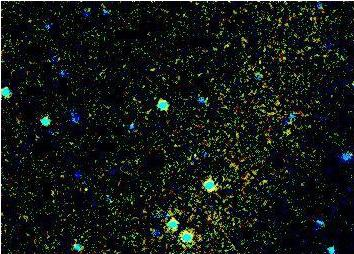star: (68, 174, 98, 204)
